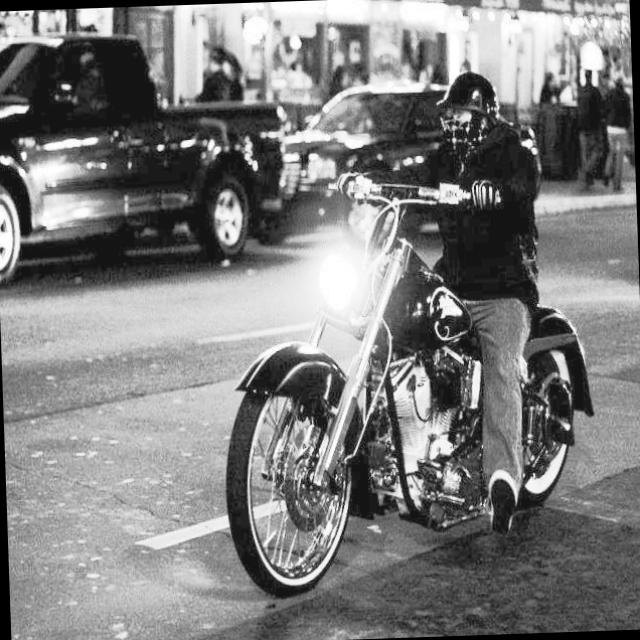Car: (0, 39, 290, 284), (272, 43, 479, 227)
Motorcycle: (216, 207, 637, 598)
